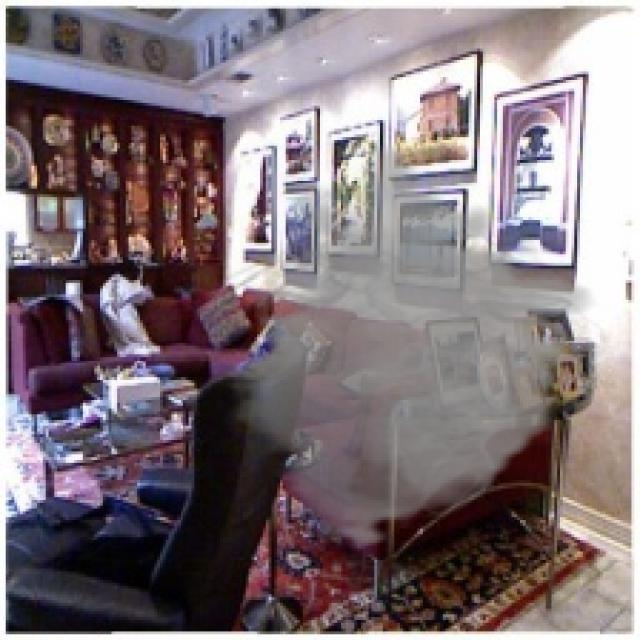Smoke: (197, 143, 609, 552)
